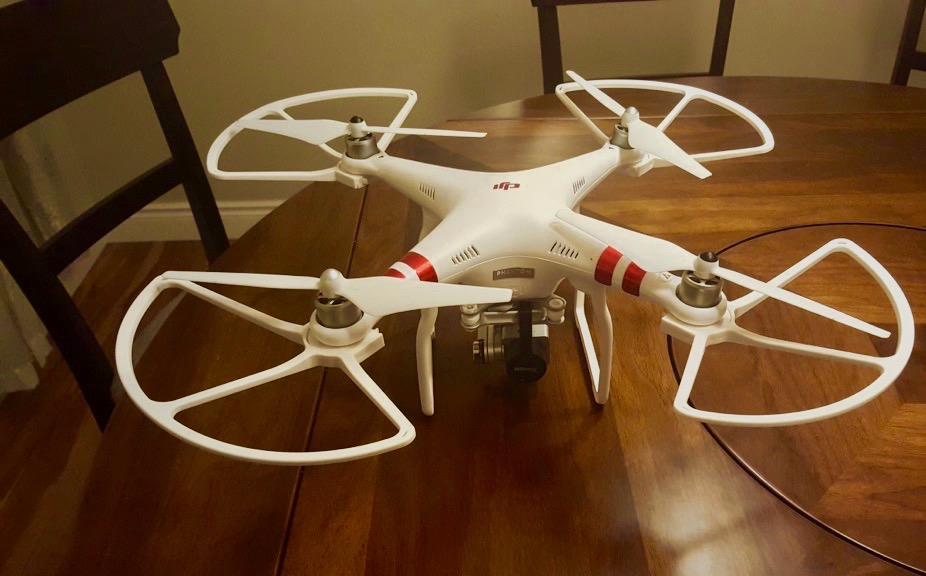drone: (110, 77, 921, 475)
